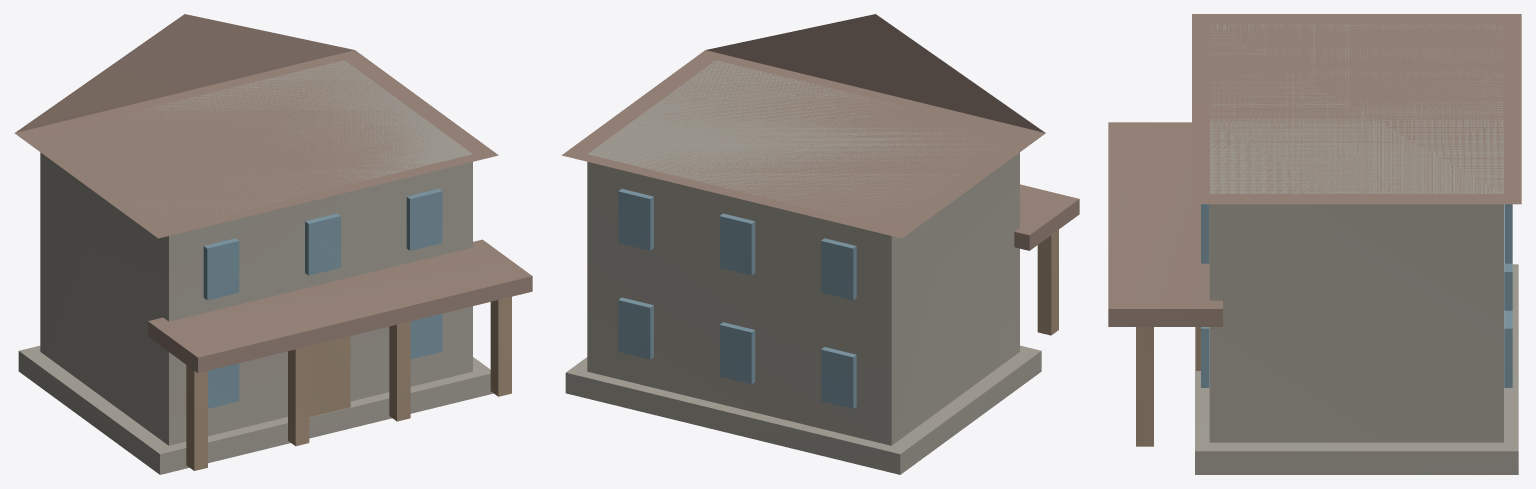
File: market-01.glb
3 renders of one model, left to right at view 1: azimuth 30°, elevation 25°; view 2: azimuth 150°, elevation 25°; view 3: azimuth 270°, elevation 25°, orthographic. The views are drawn at different scales.
Visible parts, largest first — view 1: world; view 2: world; view 3: world.
Boxes of the visible parts, x1,y1,x2,y2 form: world: [14, 14, 532, 474]; world: [561, 14, 1079, 474]; world: [1108, 14, 1521, 474].
Size of the model in its own units: 1.38 by 1.22 by 1.26.
